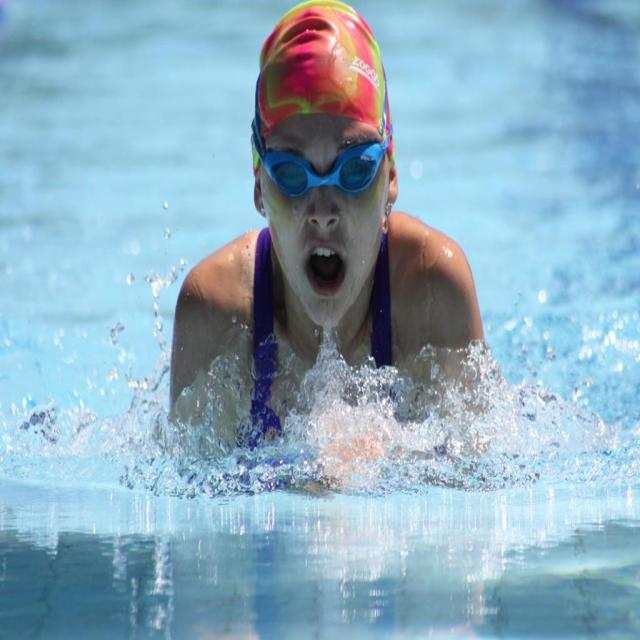Face: (252, 103, 404, 344)
